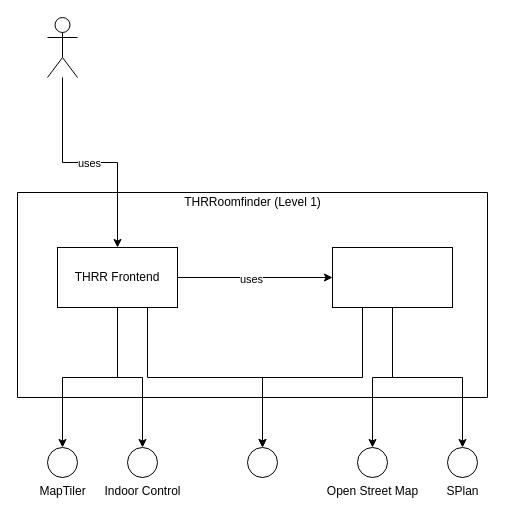
Image size: 505x516. Some labels were removed from this diagram. Each missing label, with the centre of its shape:
"Firebase" belongs at [262,462].
"THRR Backend" belongs at [392,277].
"User" belongs at [62,47].
